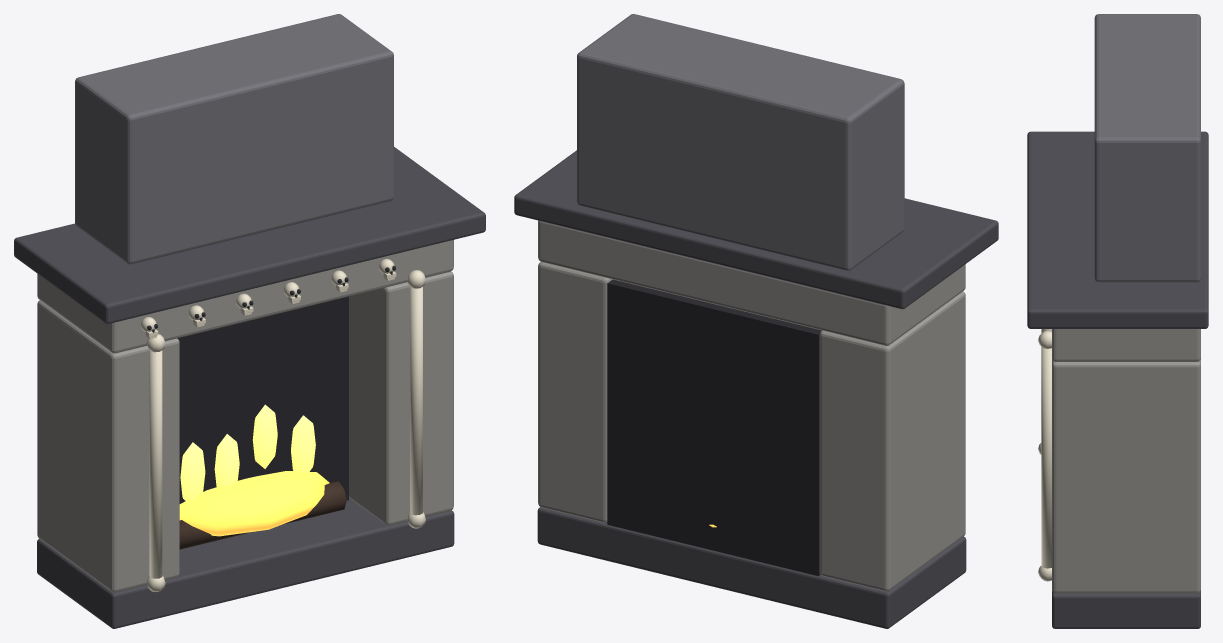
The model's file is fireplace_bone_hearth.glb.
The picture shows the model from 3 angles, left to right: view 1: azimuth 30°, elevation 25°; view 2: azimuth 150°, elevation 25°; view 3: azimuth 270°, elevation 25°; orthographic projection. The views are drawn at different scales.
Parts seen in each view (by area): view 1: GD_fireplace_bone_hearth__m1, GD_fireplace_bone_hearth__m7, GD_fireplace_bone_hearth__m0, GD_fireplace_bone_hearth__m5, GD_fireplace_bone_hearth__m4, GD_fireplace_bone_hearth__m3, GD_fireplace_bone_hearth__m2, GD_fireplace_bone_hearth__m8; view 2: GD_fireplace_bone_hearth__m1, GD_fireplace_bone_hearth__m7, GD_fireplace_bone_hearth__m5, GD_fireplace_bone_hearth__m0; view 3: GD_fireplace_bone_hearth__m1, GD_fireplace_bone_hearth__m7, GD_fireplace_bone_hearth__m0, GD_fireplace_bone_hearth__m4.
Part boxes in pixels (x1,y1,x2,y2): GD_fireplace_bone_hearth__m1: (37, 240, 453, 592); GD_fireplace_bone_hearth__m7: (75, 14, 393, 264); GD_fireplace_bone_hearth__m0: (14, 147, 485, 628); GD_fireplace_bone_hearth__m5: (147, 266, 395, 503); GD_fireplace_bone_hearth__m4: (141, 259, 425, 591); GD_fireplace_bone_hearth__m3: (179, 471, 329, 536); GD_fireplace_bone_hearth__m2: (180, 404, 315, 500); GD_fireplace_bone_hearth__m8: (179, 481, 346, 549); GD_fireplace_bone_hearth__m1: (538, 220, 965, 591); GD_fireplace_bone_hearth__m7: (577, 14, 904, 270); GD_fireplace_bone_hearth__m5: (607, 279, 821, 576); GD_fireplace_bone_hearth__m0: (514, 150, 998, 628); GD_fireplace_bone_hearth__m1: (1052, 329, 1200, 593); GD_fireplace_bone_hearth__m7: (1094, 14, 1200, 282); GD_fireplace_bone_hearth__m0: (1027, 131, 1208, 628); GD_fireplace_bone_hearth__m4: (1038, 329, 1051, 581).
Size of the model in its own units: 2 by 2.45 by 0.85.
